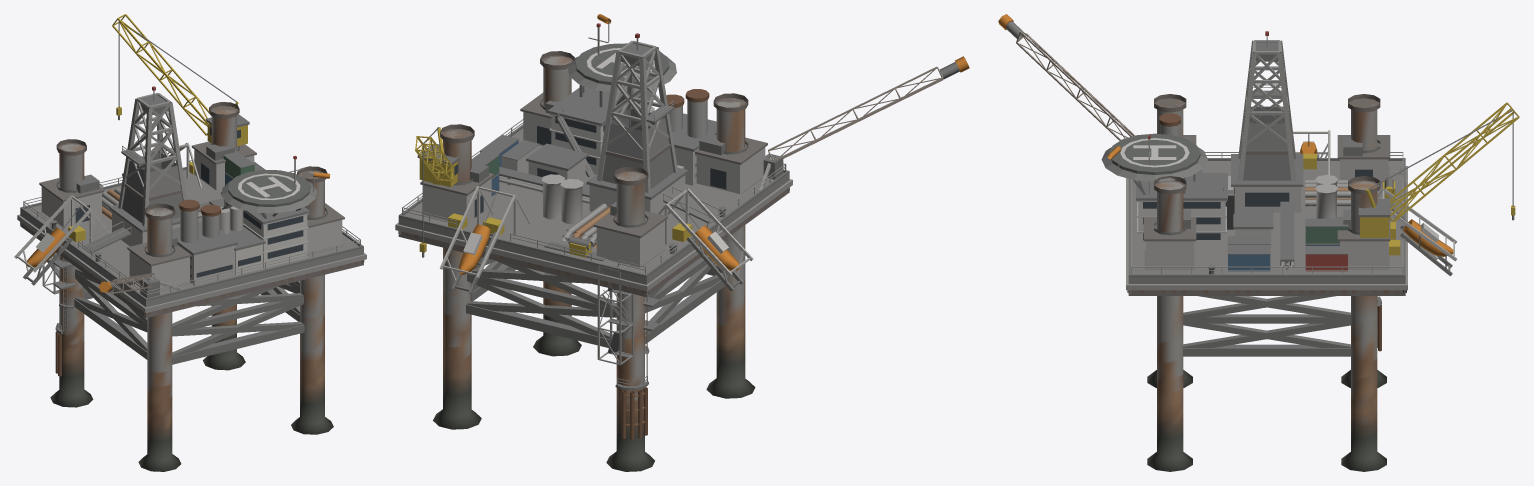
The model's file is oilrig.glb.
3 renders of one model, left to right at view 1: azimuth 30°, elevation 25°; view 2: azimuth 150°, elevation 25°; view 3: azimuth 270°, elevation 25°, orthographic. The views are drawn at different scales.
Parts seen in each view (by area): view 1: OilRig; view 2: OilRig; view 3: OilRig.
Part boxes in pixels (x1,y1,x2,y2): OilRig: [14, 14, 366, 471]; OilRig: [395, 14, 969, 471]; OilRig: [998, 14, 1519, 471].
Size of the model in its own units: 59.14 by 59.45 by 75.23.
